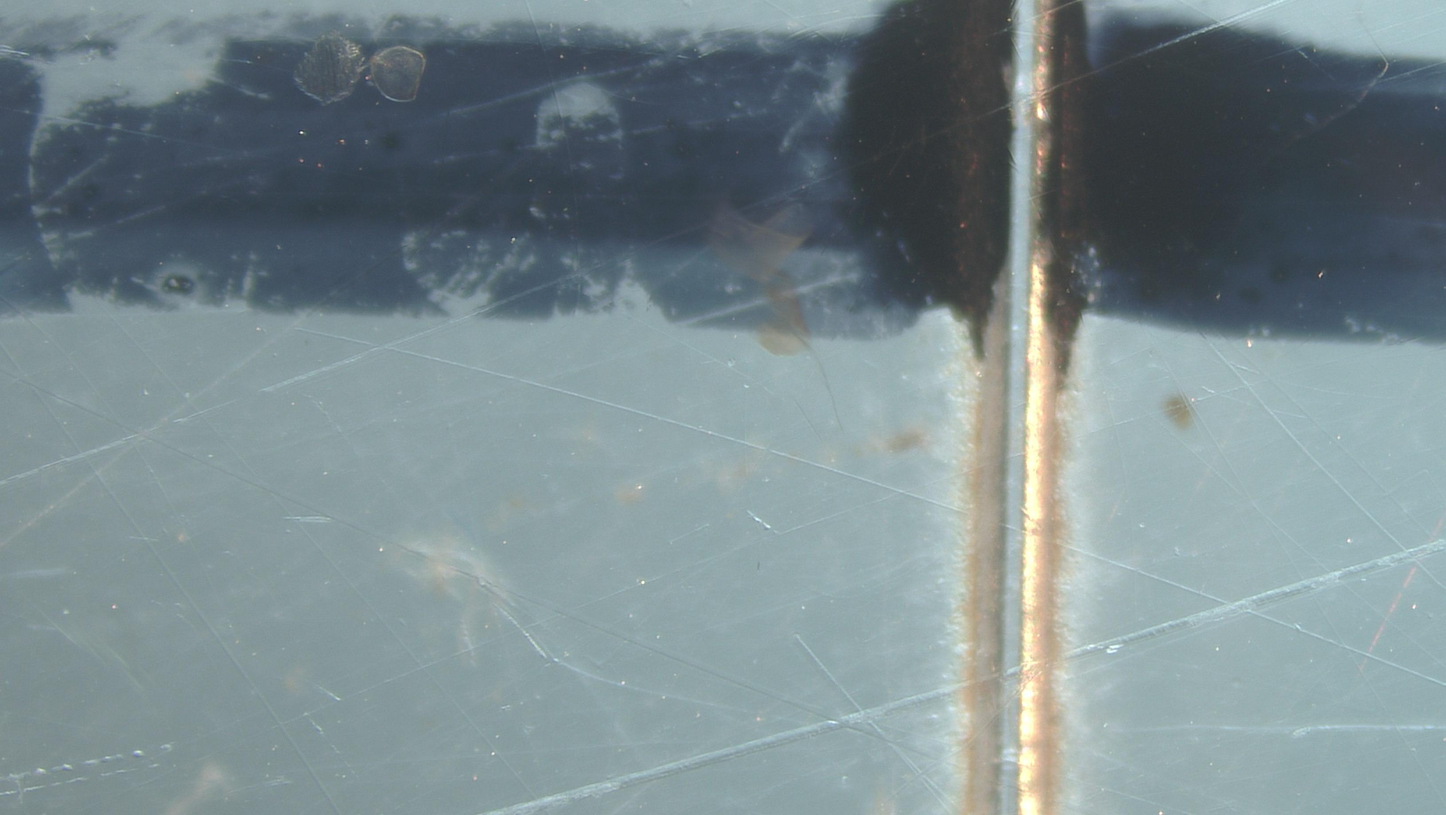dead: (370, 46, 427, 102)
